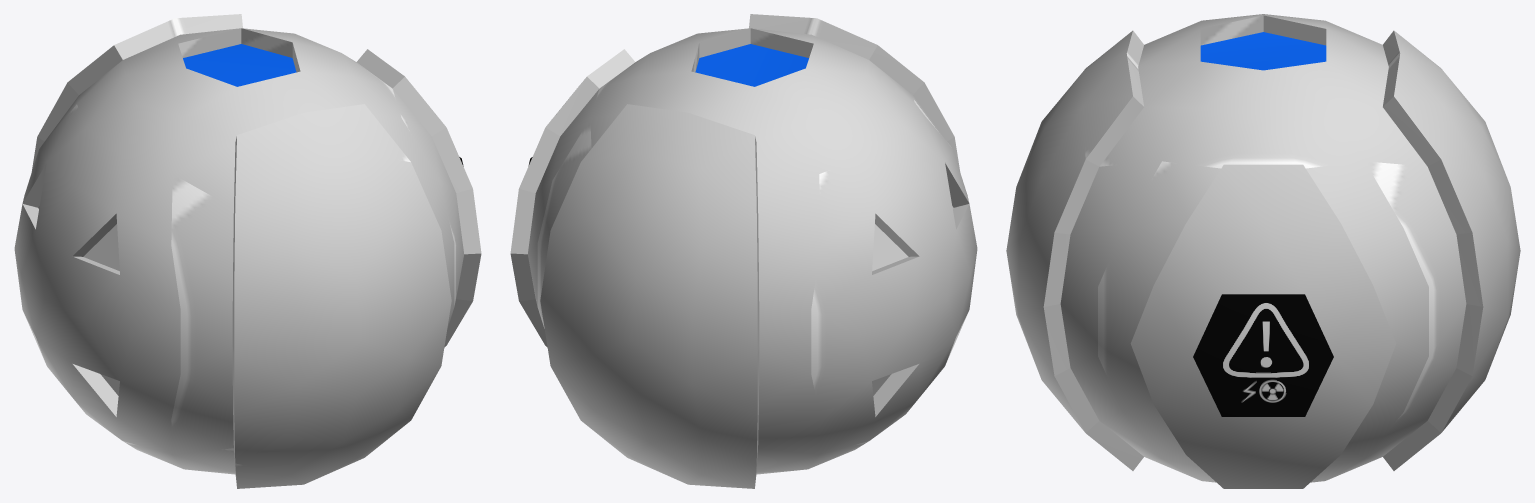
File: Type-1-Plasma-Grenade.obj
3 views of the same model, side by side, from view 1: azimuth 30°, elevation 25°; view 2: azimuth 150°, elevation 25°; view 3: azimuth 270°, elevation 25° (orthographic). The views are drawn at different scales.
Visible parts, largest first — view 1: Type-1-Plasma-Grenade; view 2: Type-1-Plasma-Grenade; view 3: Type-1-Plasma-Grenade.
Part boxes in pixels (x1=…): Type-1-Plasma-Grenade: x1=14, y1=14, x2=481, y2=488; Type-1-Plasma-Grenade: x1=510, y1=14, x2=977, y2=488; Type-1-Plasma-Grenade: x1=1006, y1=14, x2=1520, y2=488.
Bounding box in the file's own units: 0.1361 × 0.1275 × 0.1401.
